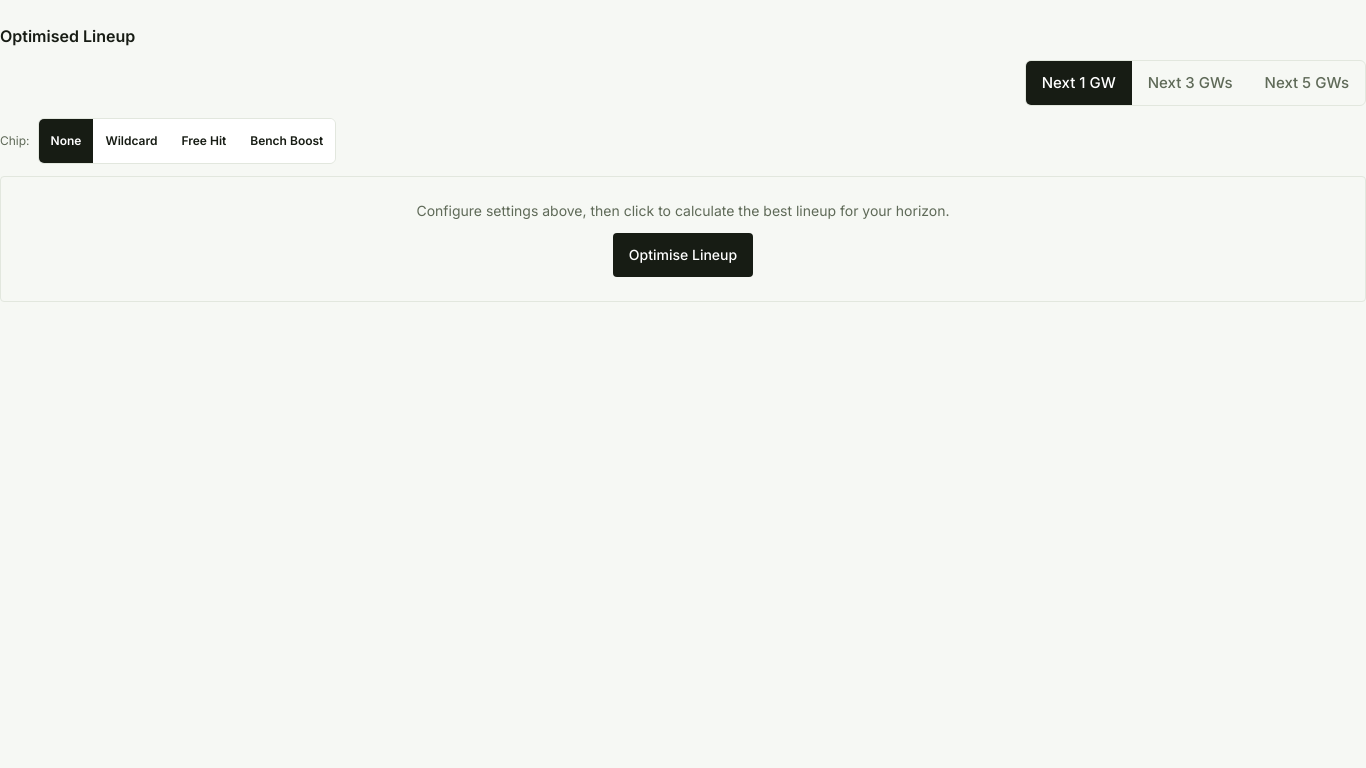
Test: Phase 44: OptimiserPanel (comparison table) › CMP-02 headline row › change count and xPts gain exclude bench-only swaps (D-07)
What coordinates should you click on to do the following:
click the button with test id "optimise-button"
I would click on:
 (683, 255)
Its box is [613,233,753,277].
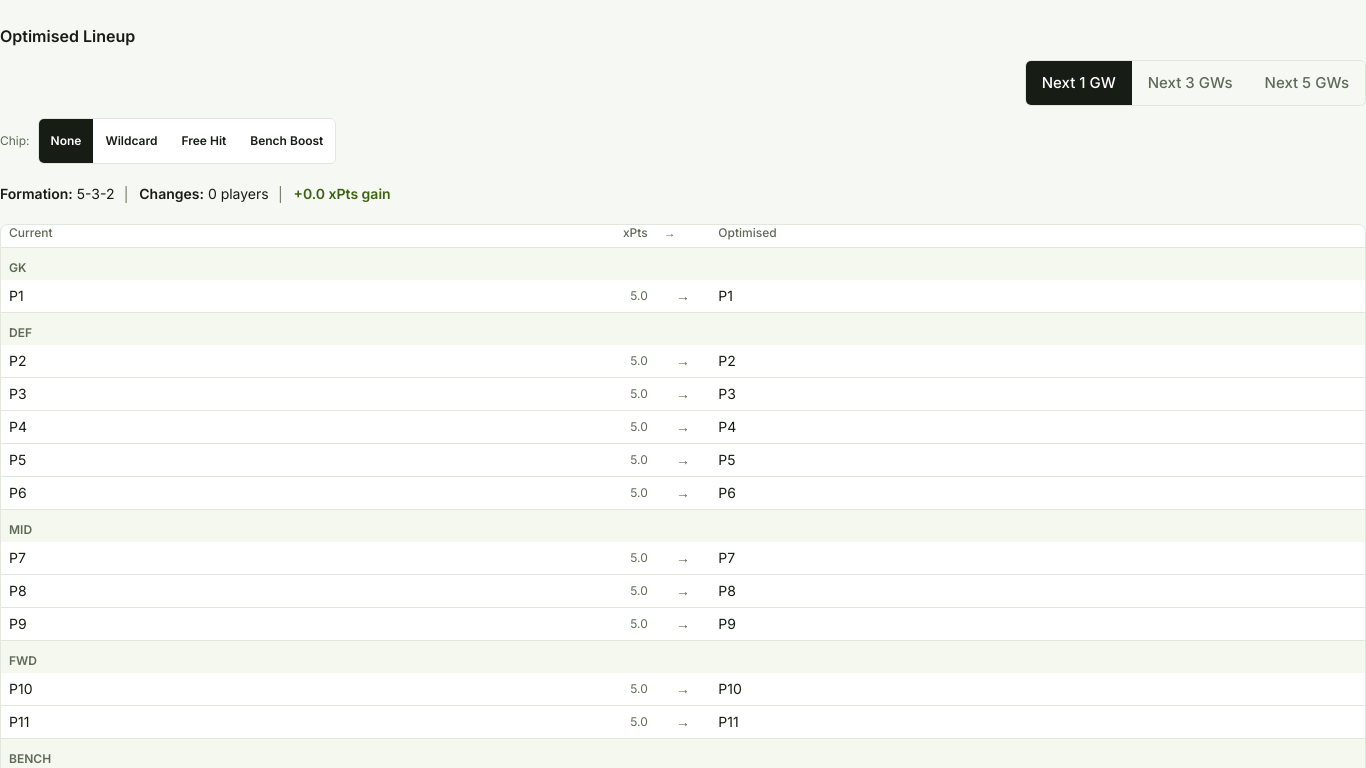
Expected: the element with test id "headline-row" shows "Changes: 0 players", [0,185,391,202]
Expected: the element with test id "headline-row" shows "+0.0 xPts gain", [0,185,391,202]
